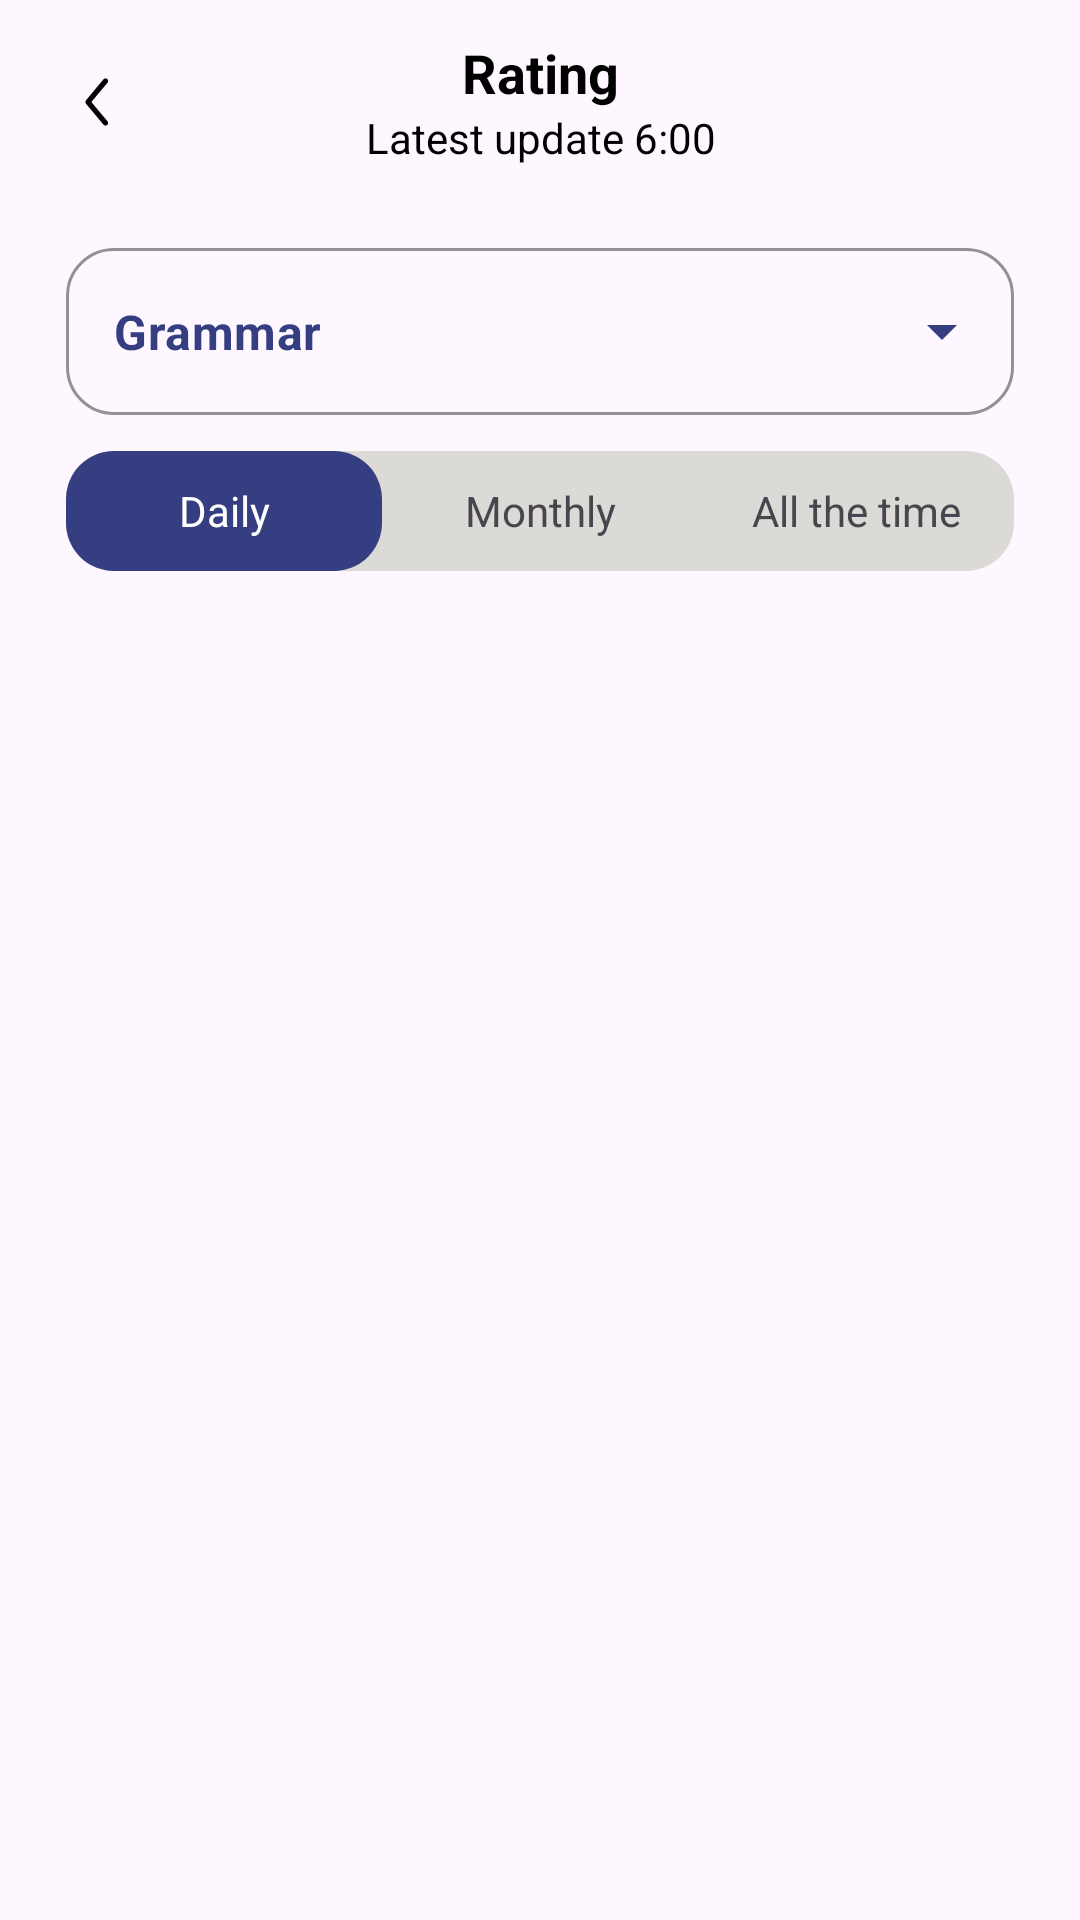

Screen size 1080×1920. Icon name, then its box in pixels as [x1,y1,x2,y2]:
back: [85,78,108,126]
